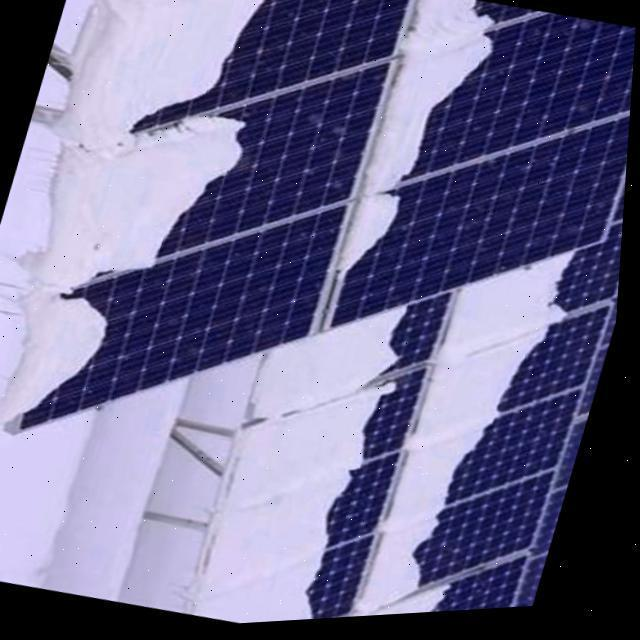Anomaly Solar Panel: (8, 0, 637, 528), (205, 175, 626, 627)
Snow: (10, 0, 289, 448), (364, 236, 590, 621), (204, 366, 405, 627), (363, 0, 508, 217), (247, 314, 424, 427), (339, 195, 407, 293)
